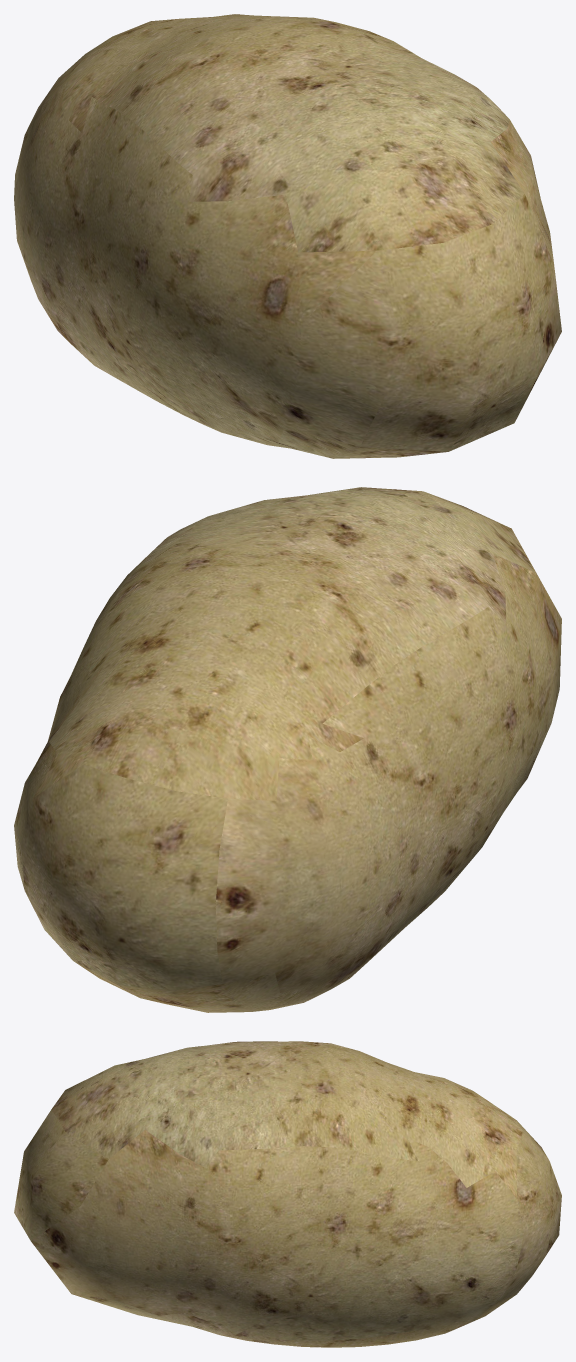
The model's file is PotatoMesh.FBX.
3 views of the same model, one above another, from view 1: azimuth 30°, elevation 25°; view 2: azimuth 150°, elevation 25°; view 3: azimuth 270°, elevation 25° (orthographic). The views are drawn at different scales.
Visible parts, largest first — view 1: Potato; view 2: Potato; view 3: Potato.
Boxes of the visible parts, x1=… form: Potato: x1=14, y1=14, x2=561, y2=458; Potato: x1=14, y1=487, x2=561, y2=1012; Potato: x1=14, y1=1041, x2=561, y2=1347.
Bounding box in the file's own units: 1715 × 1625 × 2924.
1 material, 1 textured.
